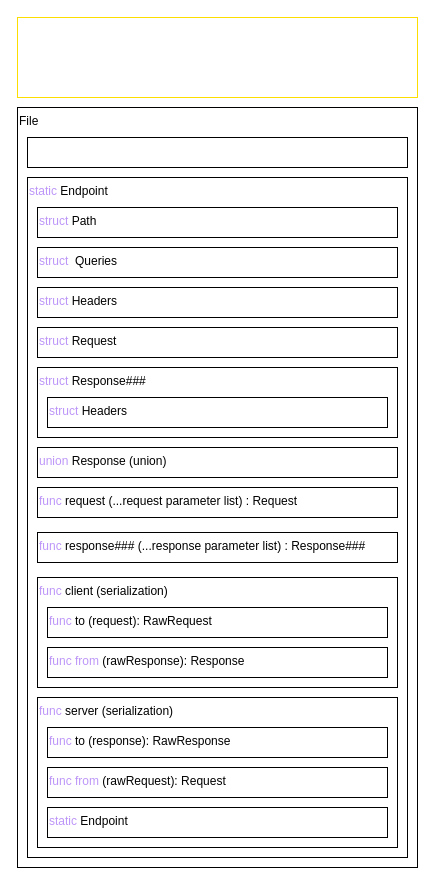
The diagram is 435 pixels wide and 885 high, and some of its shapes have lost their labels. Each missing label, with the centre of its shape:
"Shared" goes at point 217,57.
"struct Type" goes at point 217,152.
